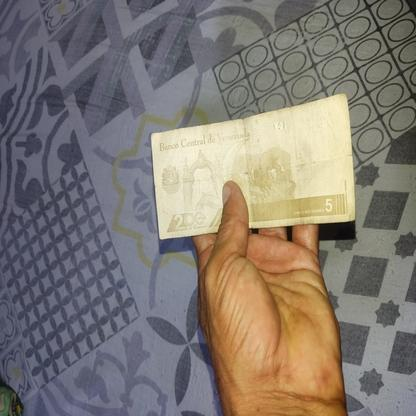five-back-vef: (153, 92, 355, 240)
